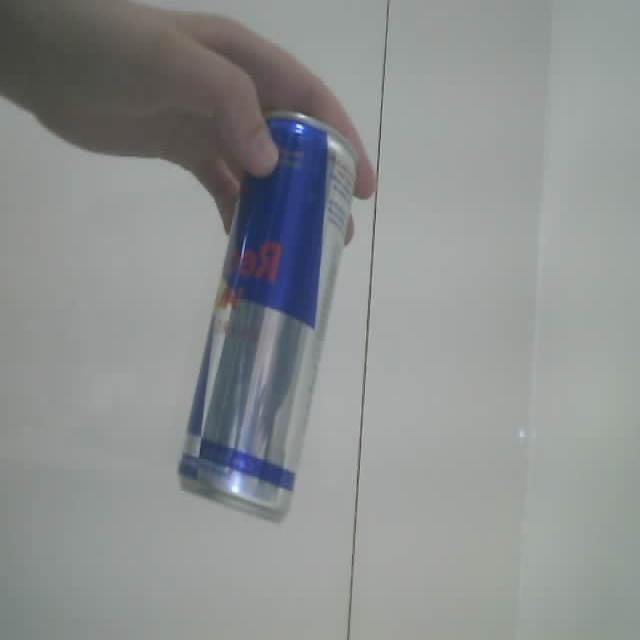redbull can: (179, 112, 356, 519)
